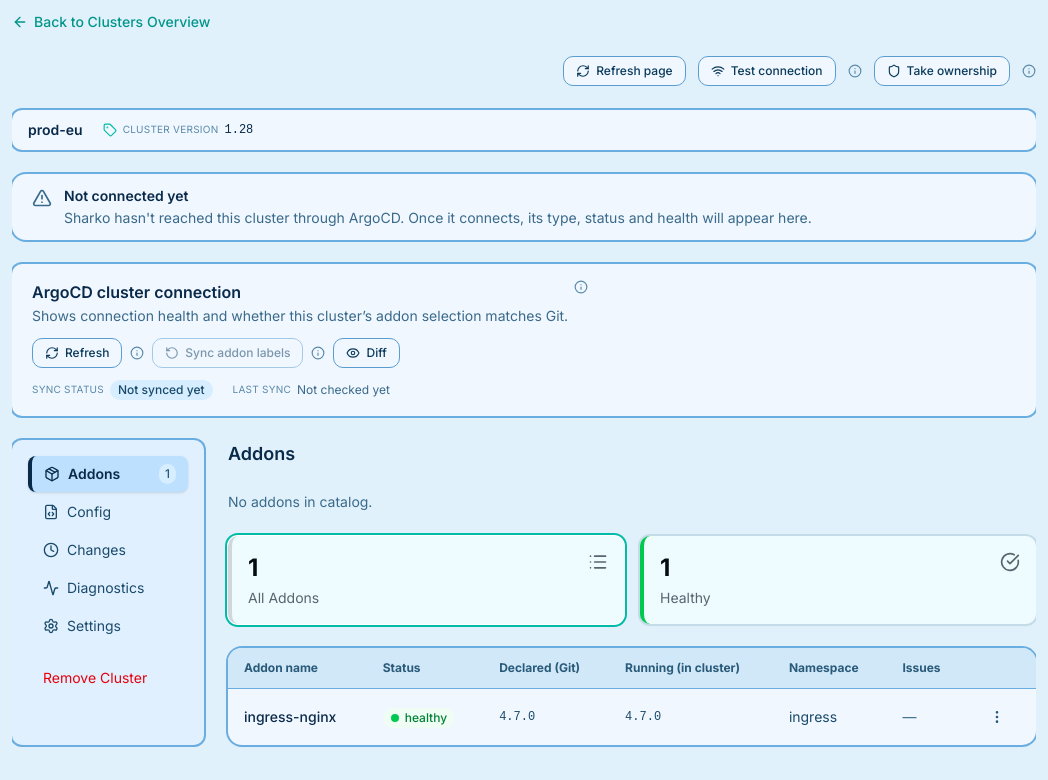
ClusterDetail — HD1 Diagnostics section (V3) › renders a "Diagnostics" nav section that routes to ?section=diagnostics
This screenshot has width=1048, height=780.
Check: the heading "prod-eu" is shown, box [28,120,83,140]
Click the button "Diagnostics". click: coordinates (108, 588)
box: [28,570,188,606]
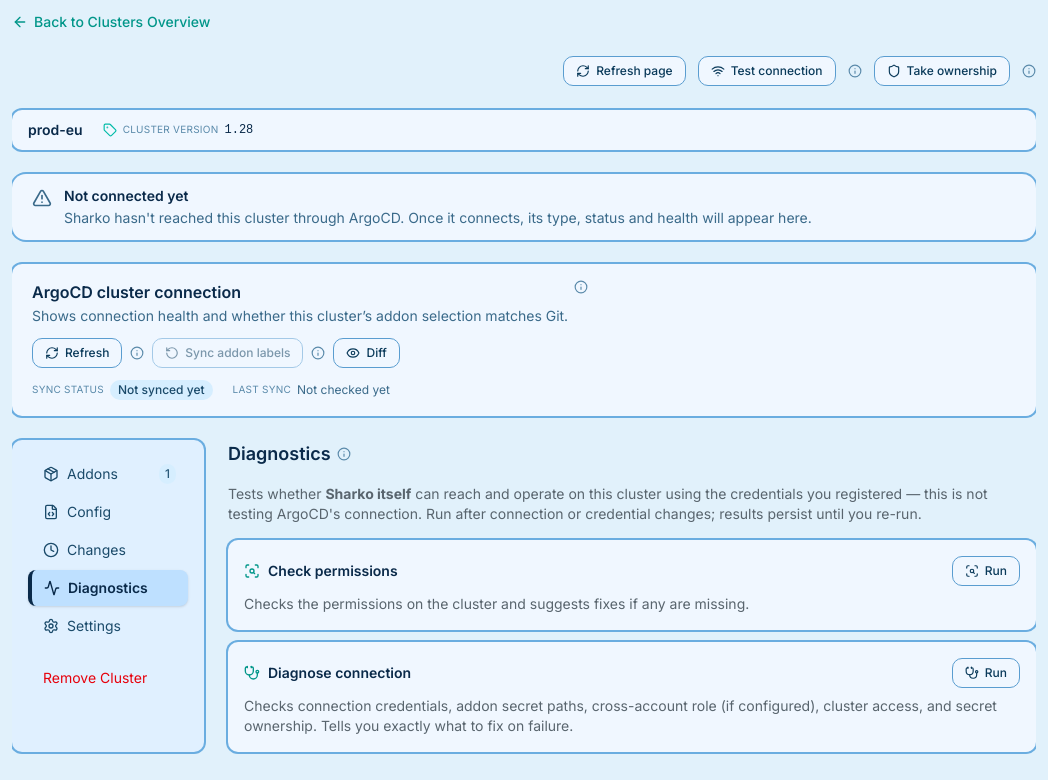
Check: the text "Sharko itself" is shown, box [325,485,411,502]
